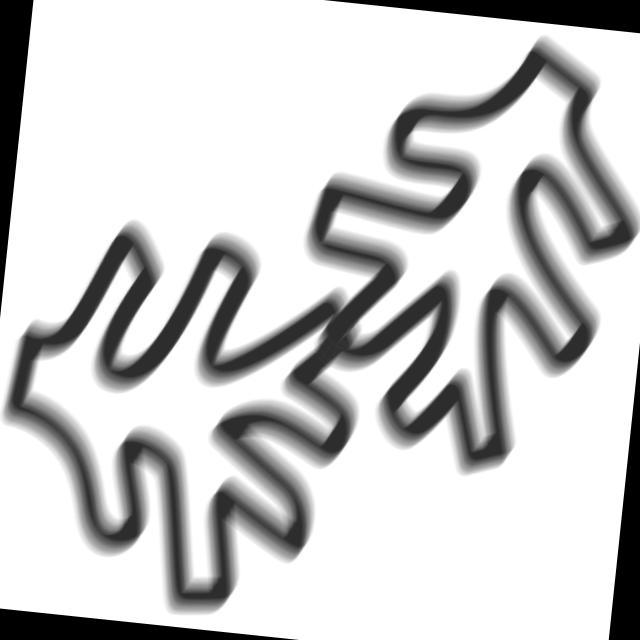coral: (273, 6, 640, 496), (1, 202, 379, 638)
